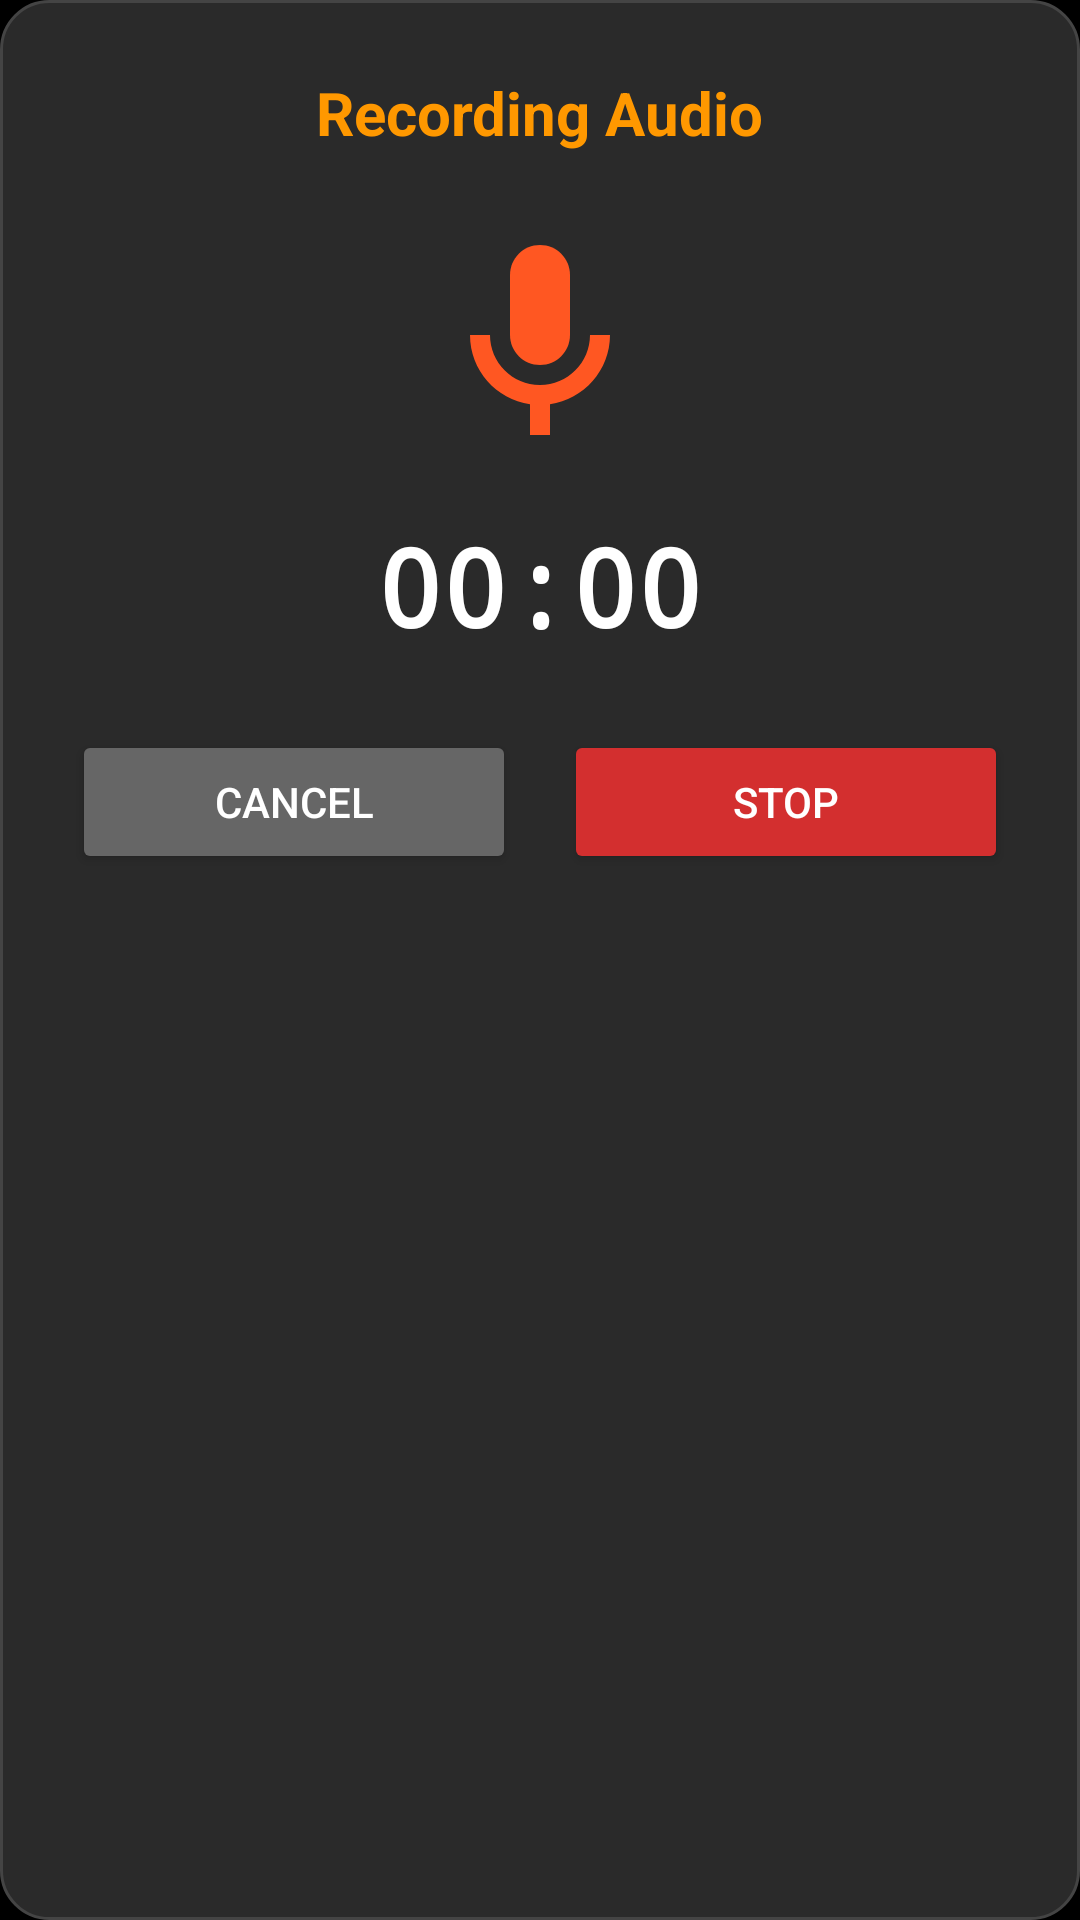

Point at icon controls on the screen. Image size 1080×1920, points as [x,y].
Microphone: [540,340]
